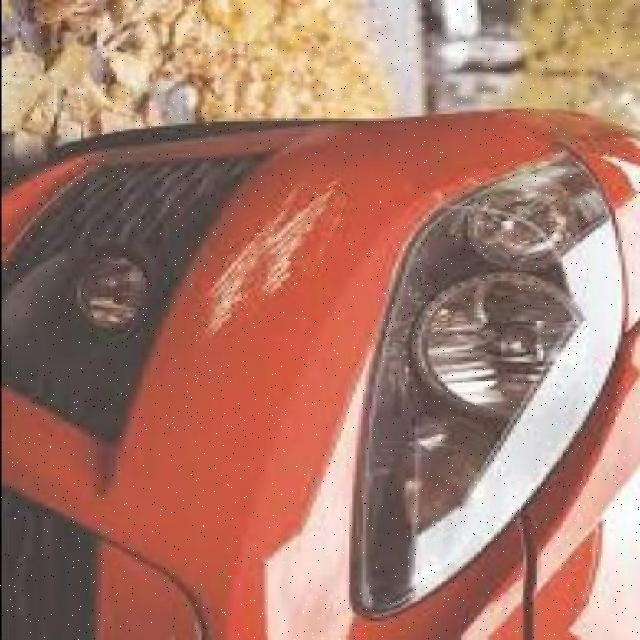damage: (203, 179, 331, 332)
